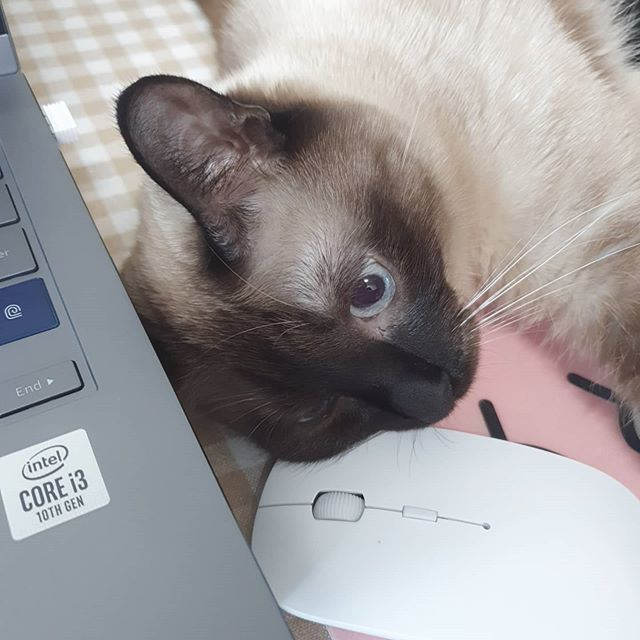cat: (101, 71, 481, 464)
